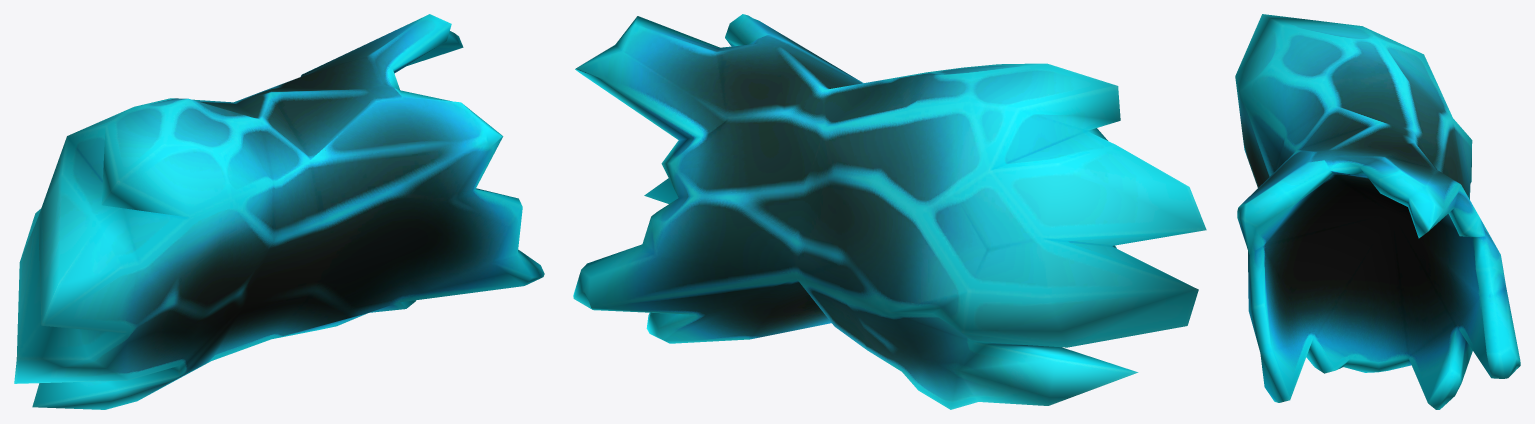
File: item_weaknumgm2501-et03.glb
3 renders of one model, left to right at view 1: azimuth 30°, elevation 25°; view 2: azimuth 150°, elevation 25°; view 3: azimuth 270°, elevation 25°, orthographic. The views are drawn at different scales.
Visible parts, largest first — view 1: FlyffMesh; view 2: FlyffMesh; view 3: FlyffMesh.
Part boxes in pixels (x1,y1,x2,y2): FlyffMesh: (14, 14, 544, 409); FlyffMesh: (573, 14, 1206, 409); FlyffMesh: (1235, 14, 1520, 409).
Bounding box in the file's own units: 0.6683 × 0.3619 × 0.3364.
Materials: 1 (1 with a texture image).
